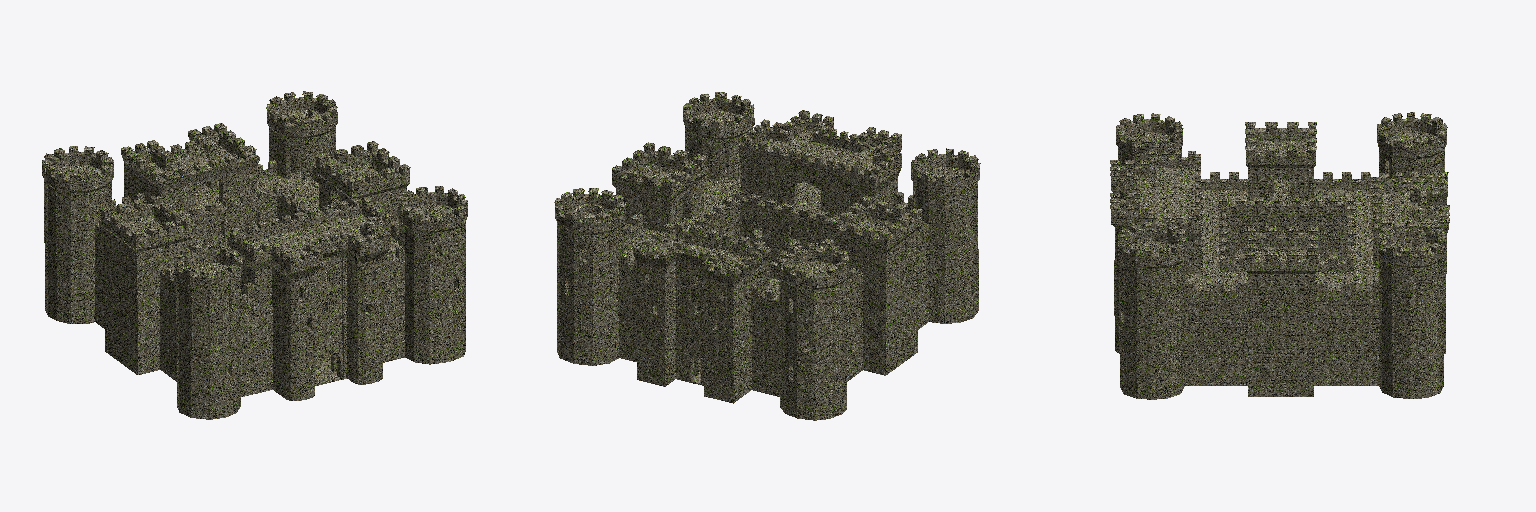
3 views of the same model, side by side, from view 1: azimuth 30°, elevation 25°; view 2: azimuth 150°, elevation 25°; view 3: azimuth 270°, elevation 25° (orthographic).
Size of the model in its own units: 1215 by 608 by 1250.
Materials: 1 (1 with a texture image).